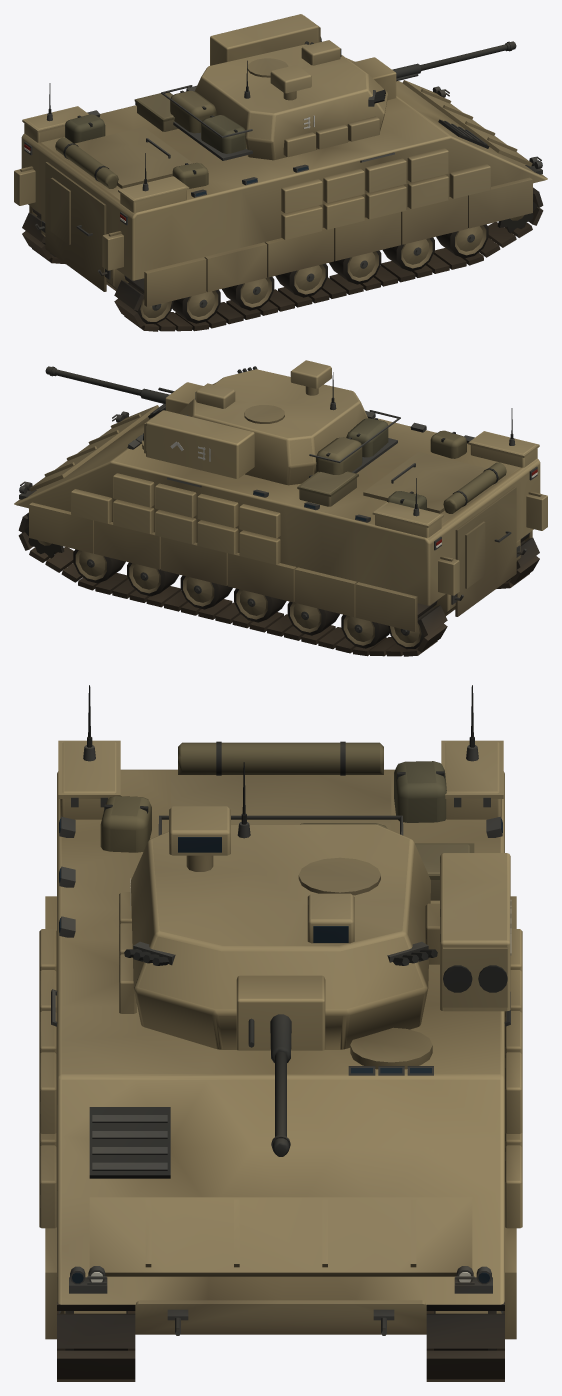
The picture shows the model from 3 angles, top to bottom: view 1: azimuth 30°, elevation 25°; view 2: azimuth 150°, elevation 25°; view 3: azimuth 270°, elevation 25°; orthographic projection. The views are drawn at different scales.
Parts seen in each view (by area): view 1: hull, turret, gun, wheel_R2, wheel_R4, wheel_R0, wheel_R3, wheel_R1, wheel_R5, idler_R, sprocket_R; view 2: hull, turret, gun, wheel_L2, wheel_L4, wheel_L0, wheel_L3, wheel_L1, wheel_L5, idler_L, sprocket_L; view 3: hull, turret, gun.
Part boxes in pixels (x1,y1,x2,y2): hull: [14, 58, 547, 331]; turret: [161, 14, 387, 160]; gun: [352, 41, 516, 100]; wheel_R2: [329, 250, 381, 284]; wheel_R4: [222, 276, 274, 310]; wheel_R0: [436, 224, 488, 258]; wheel_R3: [275, 263, 327, 297]; wheel_R1: [382, 237, 434, 271]; wheel_R5: [172, 289, 220, 323]; idler_R: [128, 282, 173, 324]; sprocket_R: [497, 194, 537, 233]; hull: [14, 383, 547, 656]; turret: [143, 360, 400, 485]; gun: [45, 366, 203, 413]; wheel_L2: [180, 575, 232, 609]; wheel_L4: [287, 601, 339, 635]; wheel_L0: [73, 549, 125, 583]; wheel_L3: [234, 588, 286, 622]; wheel_L1: [127, 562, 179, 596]; wheel_L5: [341, 614, 389, 648]; idler_L: [388, 607, 433, 649]; sprocket_L: [24, 519, 64, 558]; hull: [39, 685, 522, 1381]; turret: [119, 762, 511, 1049]; gun: [236, 975, 325, 1156].
Bounding box in the file's own units: 7.12 × 3.2 × 3.28.
